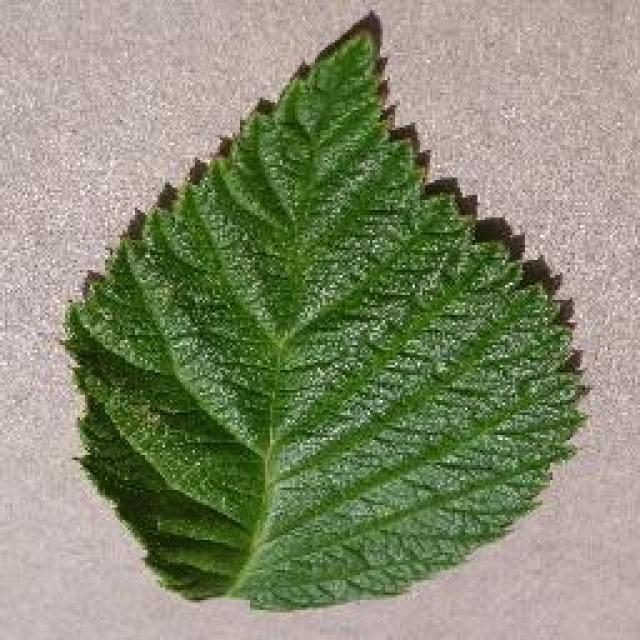Ras_healthy: (54, 93, 550, 591)
